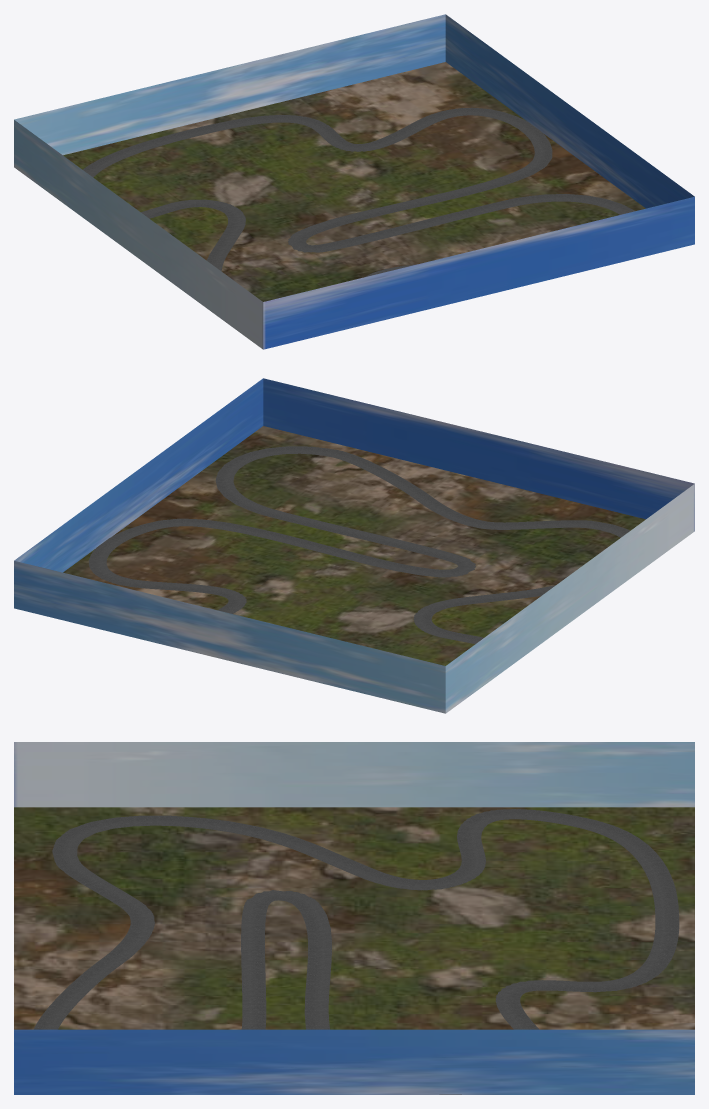
Rendered from MapaTutorial.glb.
The picture shows the model from 3 angles, top to bottom: view 1: azimuth 30°, elevation 25°; view 2: azimuth 150°, elevation 25°; view 3: azimuth 270°, elevation 25°; orthographic projection. The views are drawn at different scales.
Visible parts, largest first — view 1: floor, walls, ROAD; view 2: walls, floor, ROAD; view 3: floor, walls, ROAD.
Part boxes in pixels (x1,y1,x2,y2): floor: (63, 62, 645, 301); walls: (14, 14, 694, 349); ROAD: (83, 107, 634, 276); walls: (14, 378, 694, 713); floor: (63, 426, 645, 665); ROAD: (88, 446, 630, 644); floor: (14, 807, 694, 1029); walls: (14, 742, 694, 1094); ROAD: (33, 809, 679, 1094).
Bounding box in the file's own units: 200 × 21.12 × 200.
3 materials, 3 textured.
